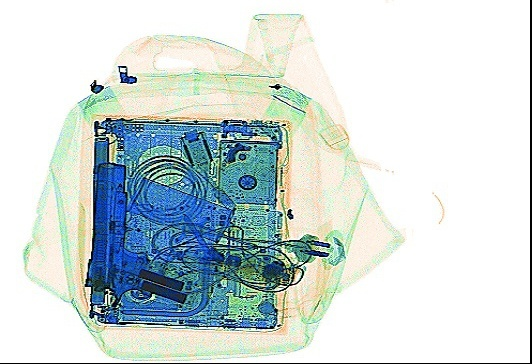zippooil: (123, 175, 234, 243)
